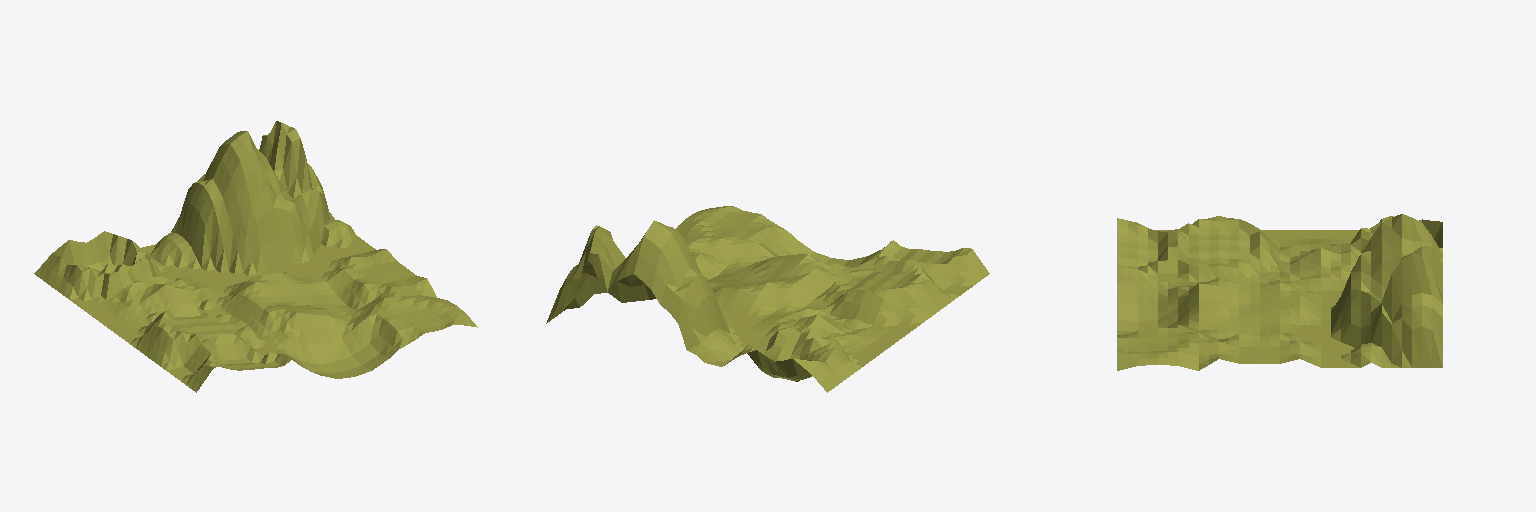
Rendered from sand.obj.
The picture shows the model from 3 angles: view 1: azimuth 30°, elevation 25°; view 2: azimuth 150°, elevation 25°; view 3: azimuth 270°, elevation 25°; orthographic projection.
Parts seen in each view (by area): view 1: 平面_平面.001; view 2: 平面_平面.001; view 3: 平面_平面.001.
Boxes of the visible parts, box(x1,y1,x2,y2) form: 平面_平面.001: box(34, 121, 477, 392); 平面_平面.001: box(546, 206, 989, 392); 平面_平面.001: box(1117, 214, 1442, 370).
Bounding box in the file's own units: 16 × 7.35 × 16.